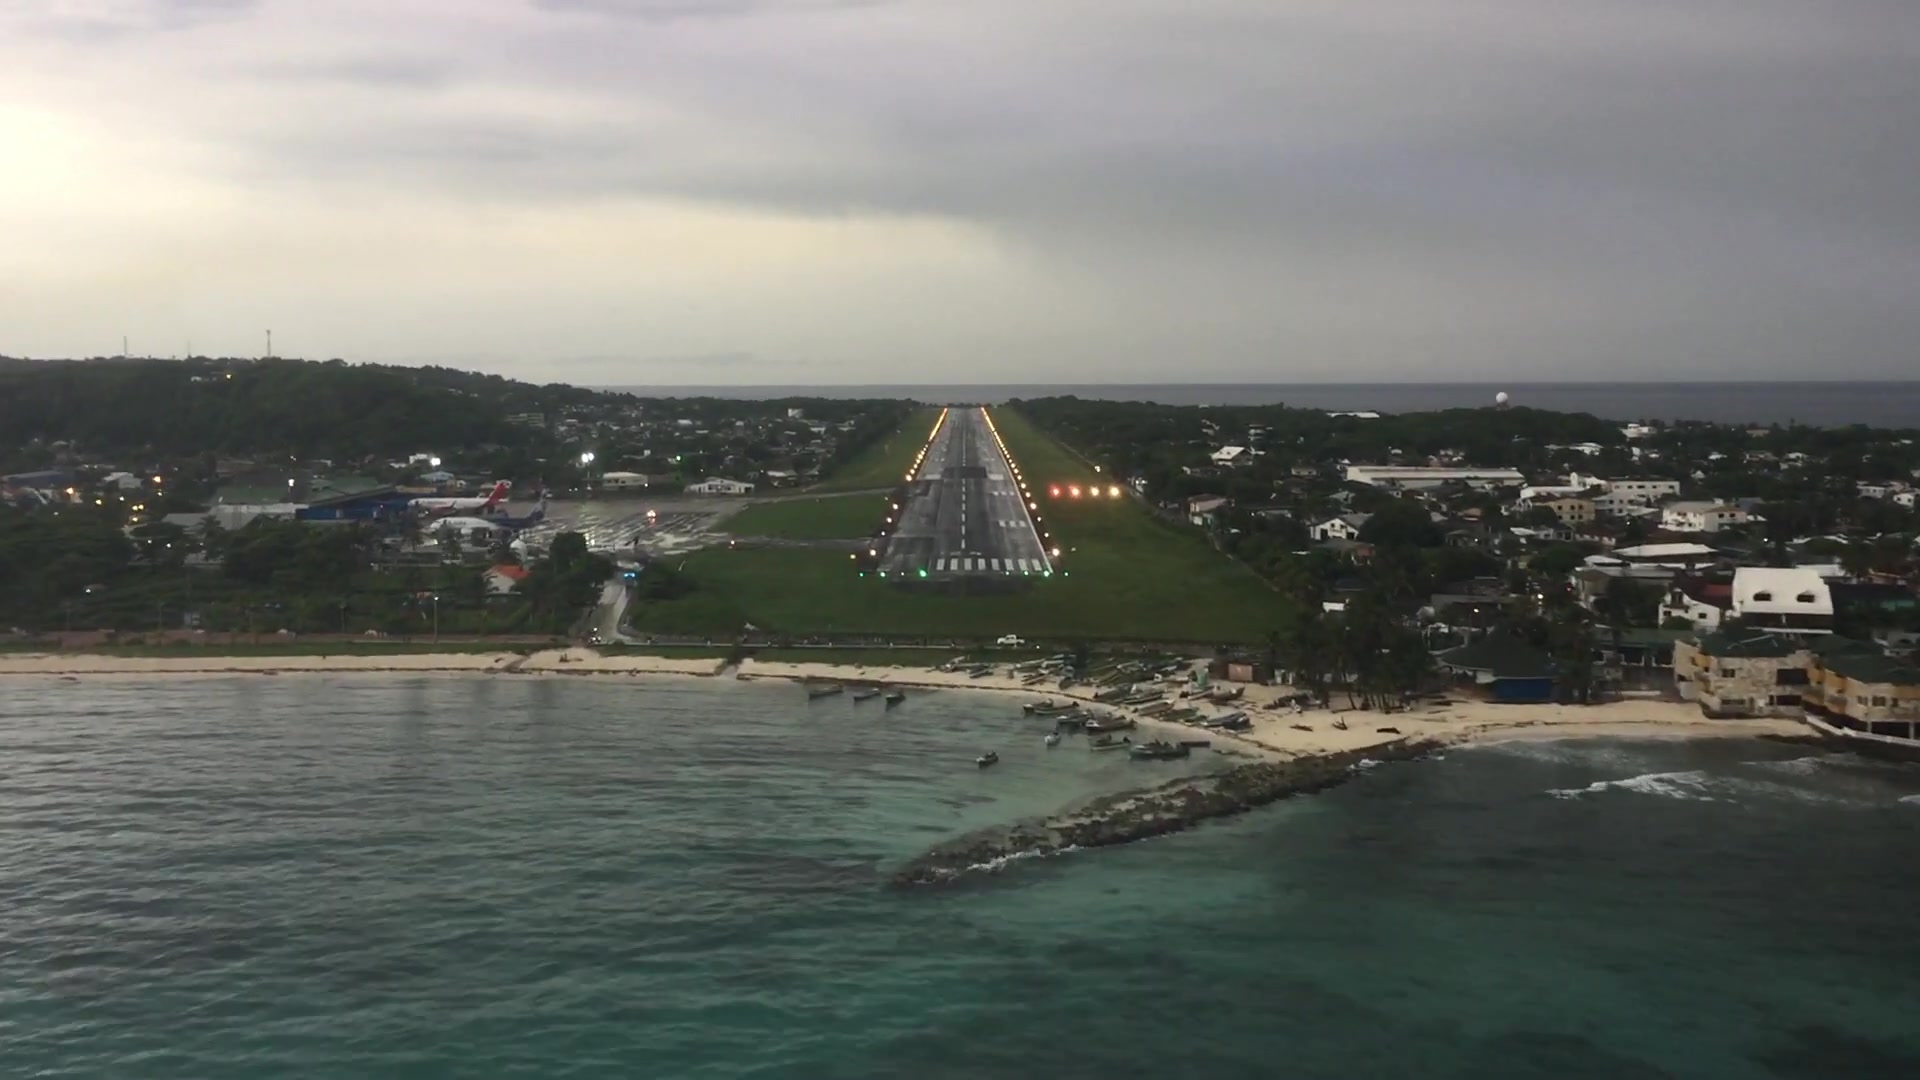entrance: (934, 556, 1044, 572)
runway: (869, 405, 1054, 578)
